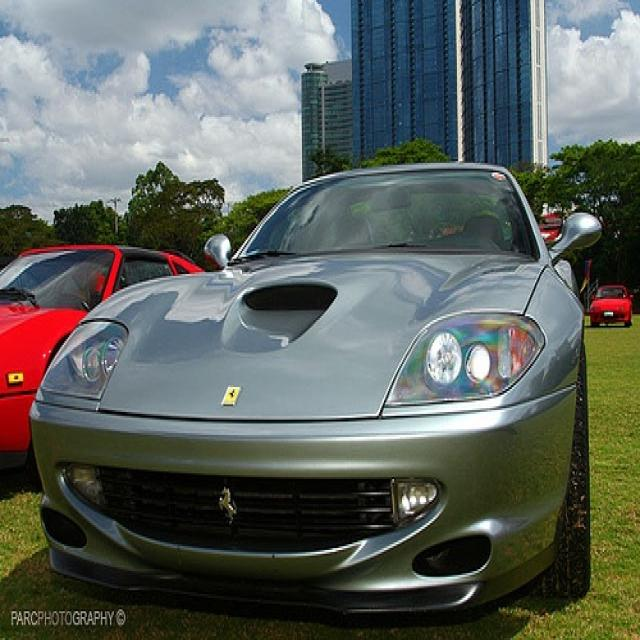car: (27, 161, 601, 619), (0, 245, 201, 466), (589, 282, 632, 328)
